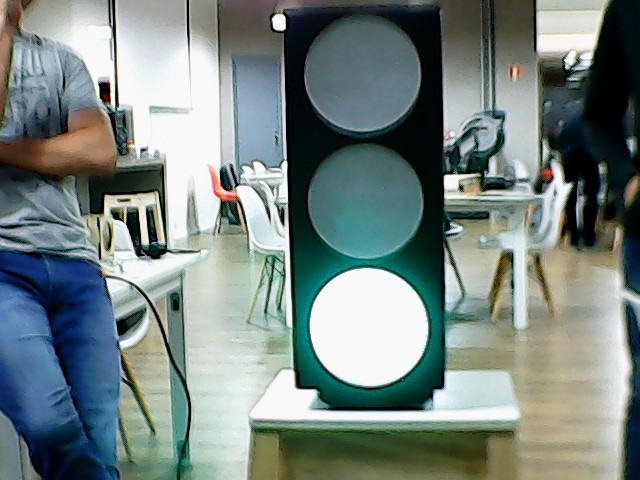verde: (277, 5, 454, 400)
